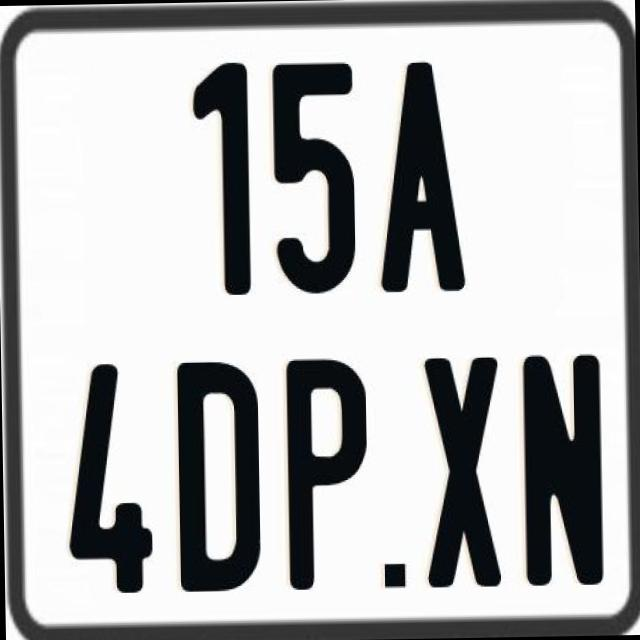1: (188, 56, 250, 296)
4: (66, 363, 156, 598)
5: (268, 57, 356, 290)
A: (374, 60, 470, 294)
D: (174, 360, 263, 590)
N: (518, 349, 600, 590)
P: (285, 358, 368, 599)
X: (419, 358, 496, 592)
